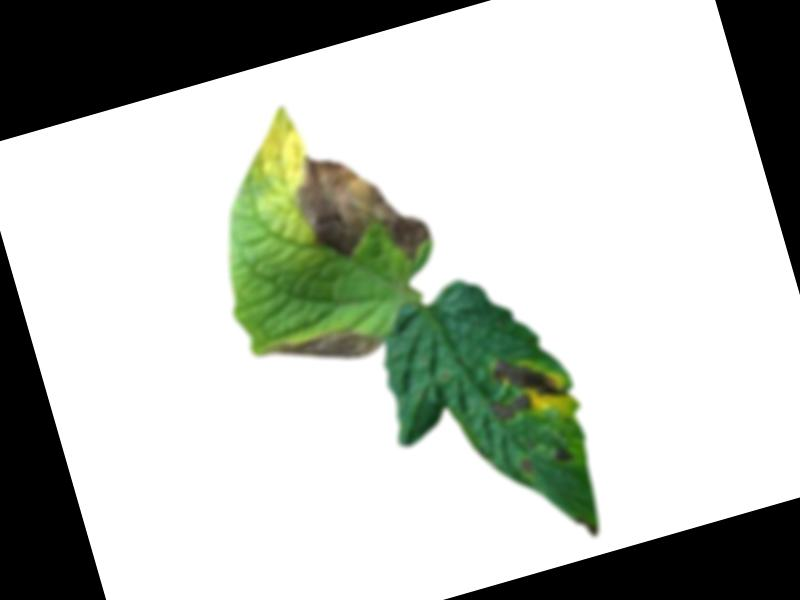Early_blight: (282, 125, 440, 289), (260, 311, 388, 383), (479, 342, 571, 422), (573, 510, 601, 540), (553, 442, 573, 464), (519, 455, 534, 476)
